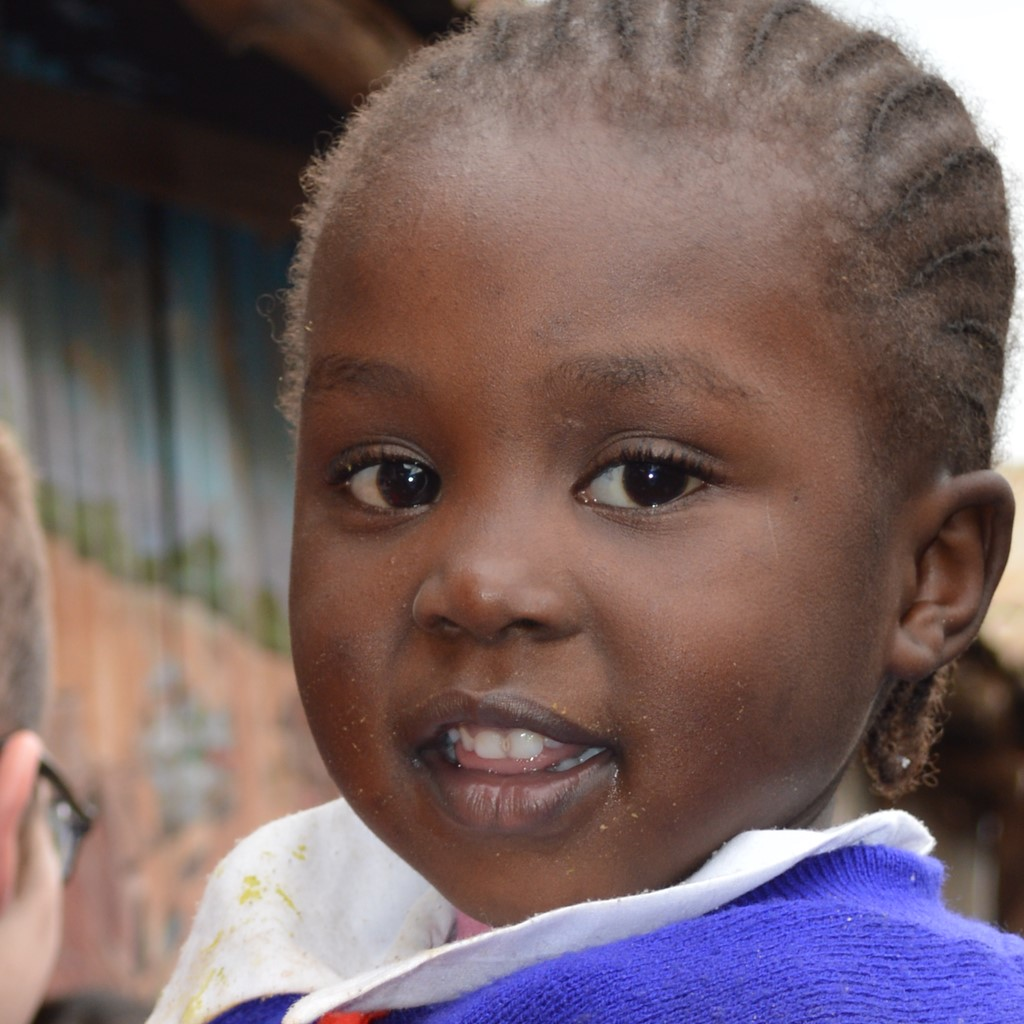sin_mascara: (313, 95, 894, 905)
